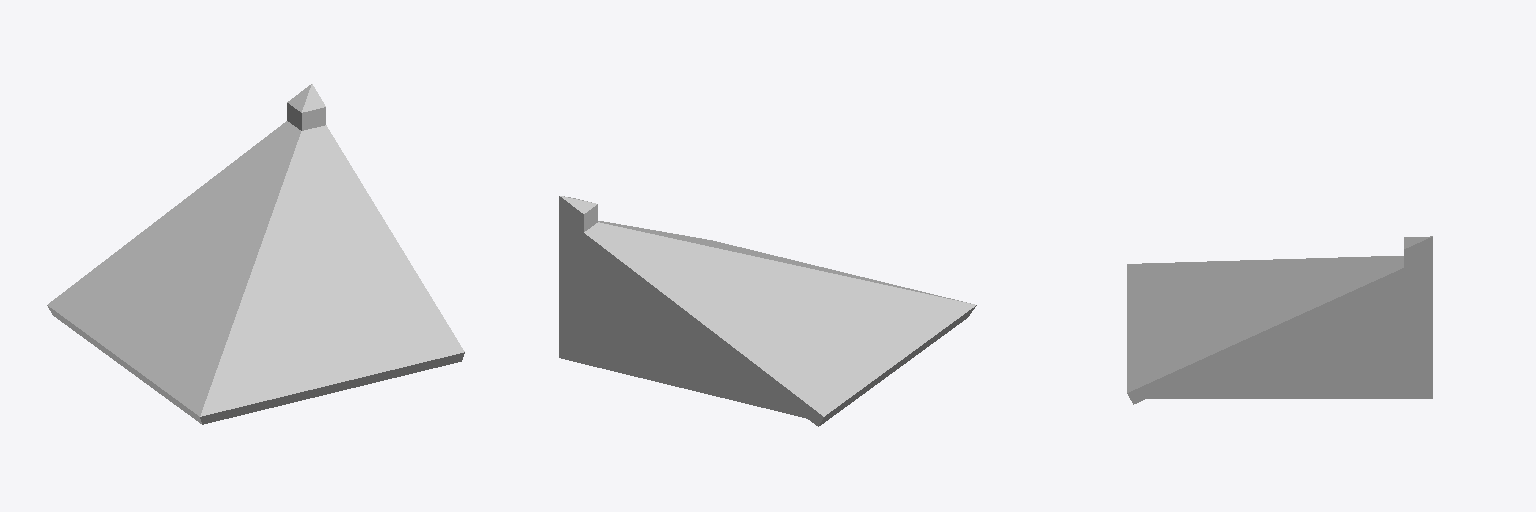
Rendered from roof-corner.obj.
The picture shows the model from 3 angles: view 1: azimuth 30°, elevation 25°; view 2: azimuth 150°, elevation 25°; view 3: azimuth 270°, elevation 25°; orthographic projection.
Visible parts, largest first — view 1: roof-corner; view 2: roof-corner; view 3: roof-corner.
Boxes of the visible parts, box(x1,y1,x2,y2) form: roof-corner: box(47, 84, 464, 424); roof-corner: box(559, 196, 976, 426); roof-corner: box(1127, 236, 1432, 404).
Size of the model in its own units: 1.07 by 0.6483 by 1.07.